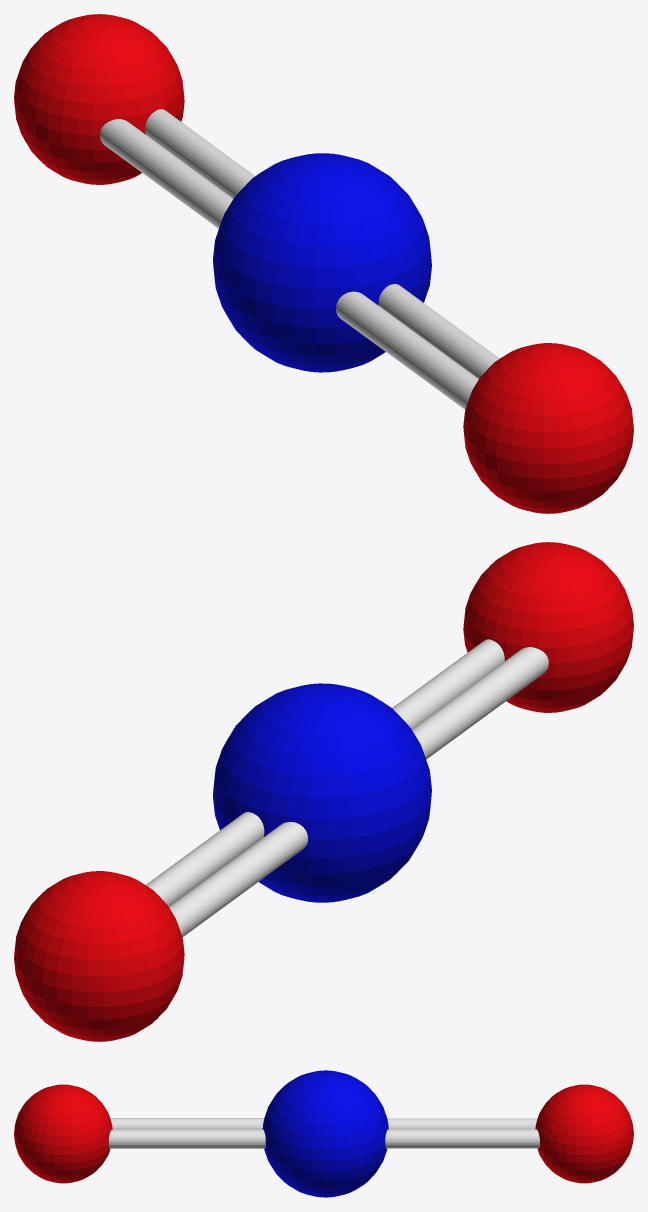
3 renders of one model, top to bottom at view 1: azimuth 30°, elevation 25°; view 2: azimuth 150°, elevation 25°; view 3: azimuth 270°, elevation 25°, orthographic. The views are drawn at different scales.
Parts seen in each view (by area): view 1: Sphere.003, Sphere.001, Sphere, Cylinder.001, Cylinder.002, Cylinder.003, Cylinder.004; view 2: Sphere.003, Sphere, Sphere.001, Cylinder.002, Cylinder.001, Cylinder.004, Cylinder.003; view 3: Sphere.003, Sphere.001, Sphere, Cylinder.003, Cylinder.004, Cylinder.001, Cylinder.002.
Part boxes in pixels (x1=…): Sphere.003: x1=213, y1=153, x2=431, y2=372; Sphere.001: x1=463, y1=343, x2=633, y2=513; Sphere: x1=14, y1=14, x2=184, y2=184; Cylinder.001: x1=336, y1=291, x2=478, y2=409; Cylinder.002: x1=100, y1=119, x2=232, y2=228; Cylinder.003: x1=378, y1=284, x2=499, y2=378; Cylinder.004: x1=145, y1=109, x2=254, y2=198; Sphere.003: x1=213, y1=683, x2=431, y2=902; Sphere: x1=14, y1=871, x2=184, y2=1041; Sphere.001: x1=463, y1=542, x2=633, y2=712; Cylinder.002: x1=169, y1=822, x2=307, y2=937; Cylinder.001: x1=412, y1=647, x2=548, y2=759; Cylinder.004: x1=146, y1=812, x2=264, y2=906; Cylinder.003: x1=392, y1=639, x2=504, y2=729; Sphere.003: x1=262, y1=1070, x2=388, y2=1197; Sphere.001: x1=14, y1=1084, x2=112, y2=1183; Sphere: x1=535, y1=1084, x2=633, y2=1183; Cylinder.003: x1=108, y1=1129, x2=265, y2=1148; Cylinder.004: x1=385, y1=1129, x2=539, y2=1148; Cylinder.001: x1=110, y1=1118, x2=264, y2=1129; Cylinder.002: x1=387, y1=1118, x2=537, y2=1129.
Bounding box in the file's own units: 2 × 2 × 9.74.
